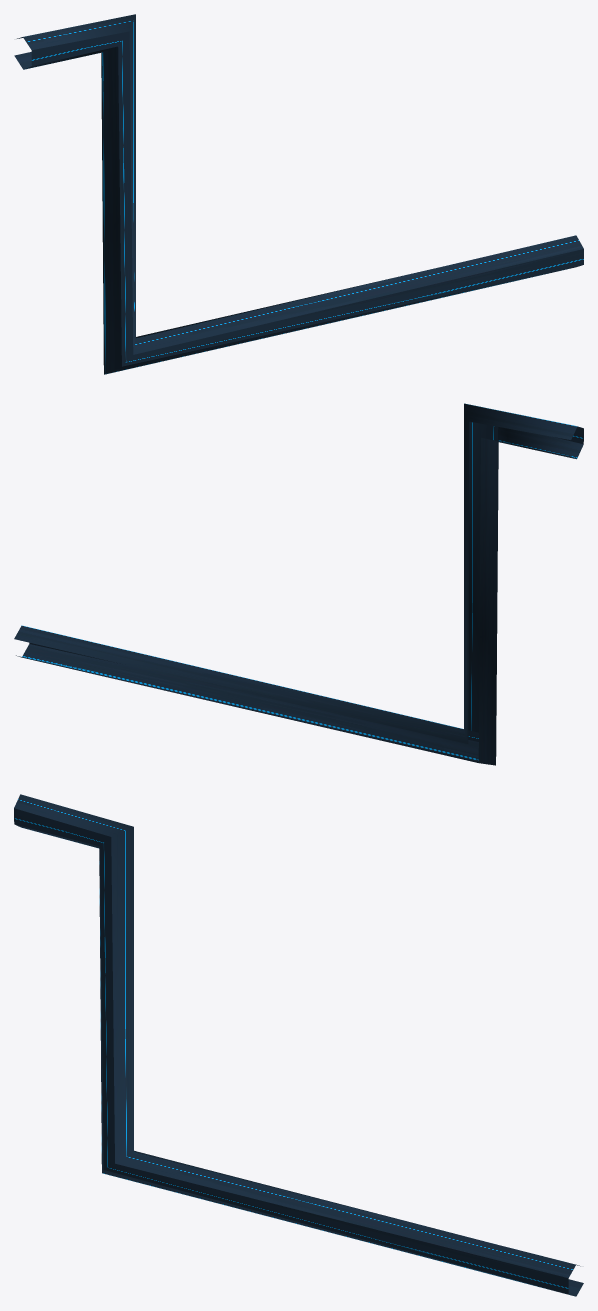
The model's file is Pipe 3.fbx.
3 views of the same model, one above another, from view 1: azimuth 30°, elevation 25°; view 2: azimuth 150°, elevation 25°; view 3: azimuth 330°, elevation 25° (orthographic).
Visible parts, largest first — view 1: polySurface1; view 2: polySurface1; view 3: polySurface1.
Part boxes in pixels (x1,y1,x2,y2): polySurface1: [14, 14, 583, 374]; polySurface1: [14, 403, 583, 765]; polySurface1: [14, 794, 583, 1296].
Bounding box in the file's own units: 86.27 × 54.29 × 4.41.
